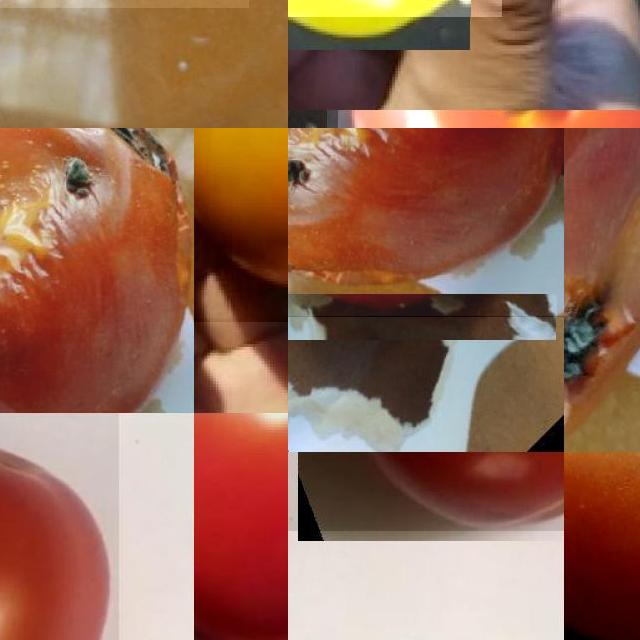Fresh Tomato: (0, 413, 118, 640), (288, 452, 564, 531), (194, 413, 288, 640), (194, 128, 288, 321), (564, 452, 640, 640)
Rotten Tomato: (0, 128, 194, 413), (288, 128, 564, 316), (564, 128, 640, 452)
